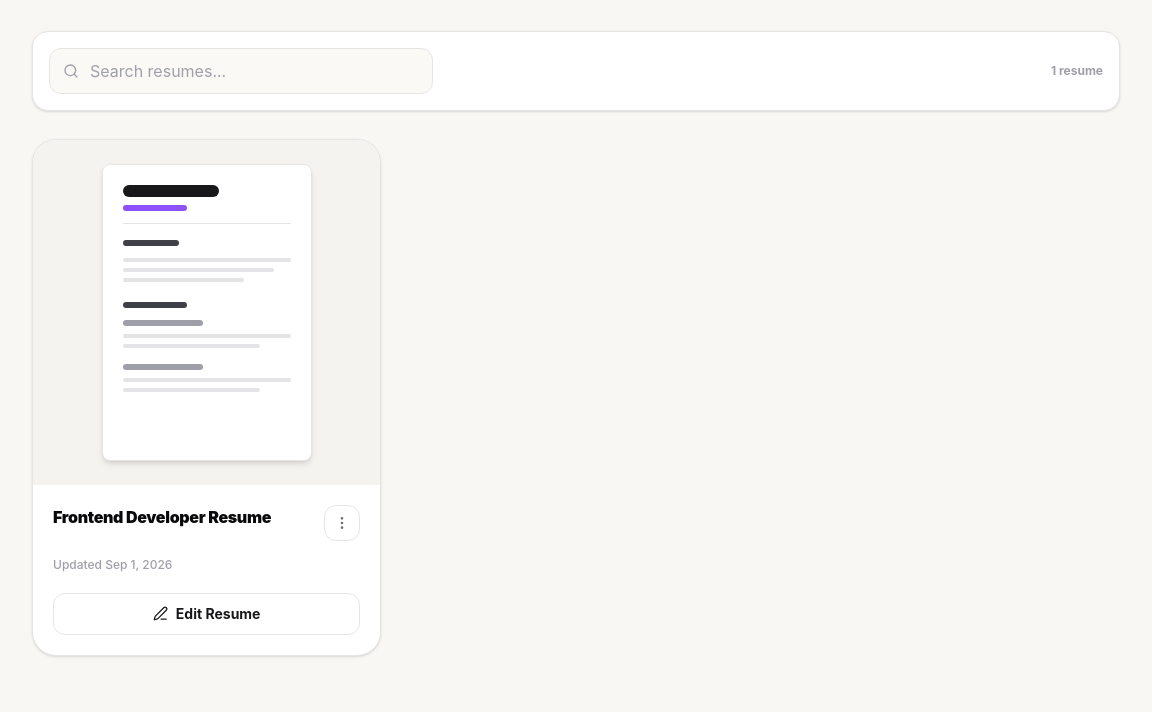
Test: ResumeCard rename › enters rename mode from the action menu
The image size is (1152, 712).
(page scrolled)
What coordinates should you click on to do the following:
click the button named "Actions for Frontend Developer Resume"
I would click on:
 (342, 523)
Its box is 324,505 -> 360,541.
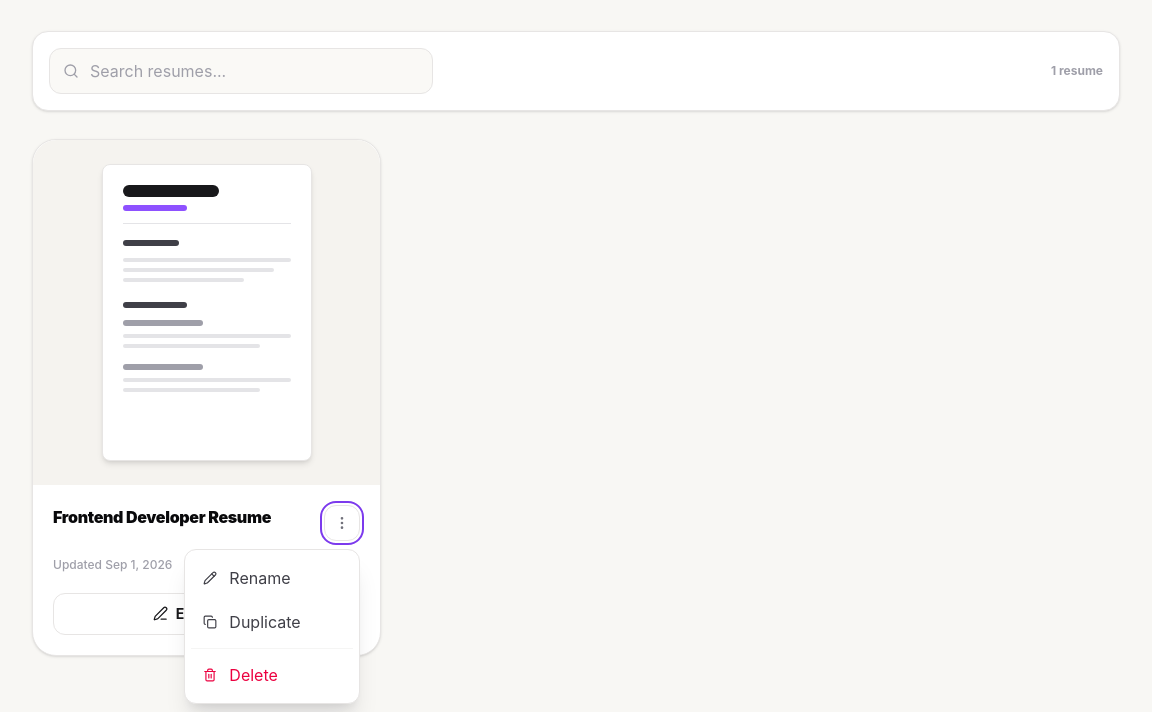
What coordinates should you click on to do the following:
click the button "Rename"
I would click on:
 (272, 578)
Its box is 191,556 -> 353,600.
(page scrolled)
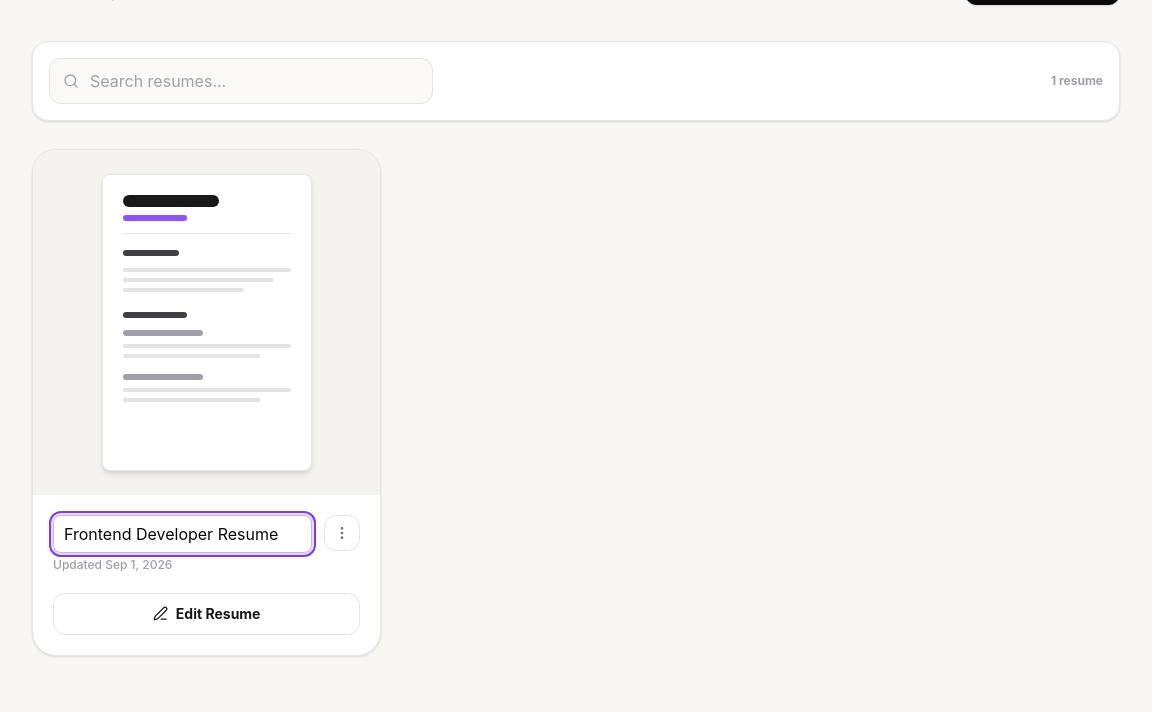
expect the field named "Resume title" holds "Frontend Developer Resume": met, box 53,515 -> 312,553
expect the button "Duplicate" is gone: met
